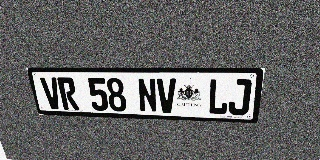5: (87, 78, 109, 111)
8: (105, 78, 127, 112)
J: (228, 79, 252, 115)
L: (207, 79, 230, 115)
N: (137, 78, 157, 113)
R: (57, 77, 80, 110)
V: (40, 77, 63, 109), (157, 78, 176, 113)
